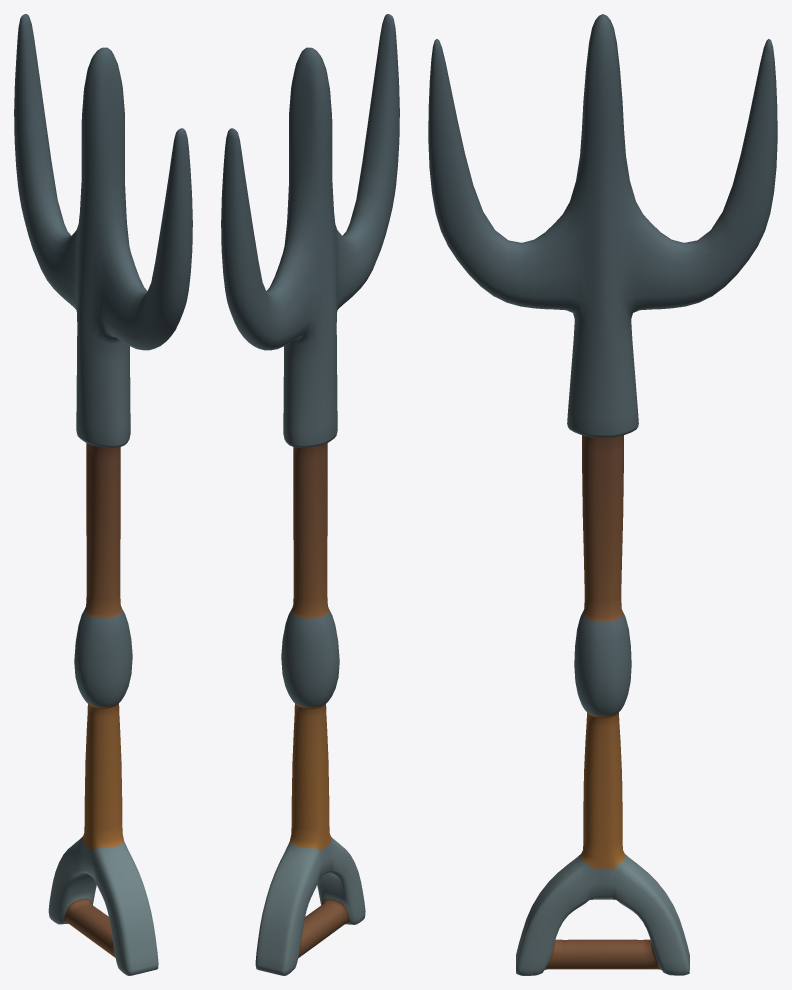
The model's file is pitchfork.fbx.
The picture shows the model from 3 angles, left to right: view 1: azimuth 30°, elevation 25°; view 2: azimuth 150°, elevation 25°; view 3: azimuth 270°, elevation 25°; orthographic projection. The views are drawn at different scales.
Parts seen in each view (by area): view 1: Cube; view 2: Cube; view 3: Cube.
Part boxes in pixels (left/top/right/bottom): Cube: left=14, top=14, right=192, bottom=975; Cube: left=221, top=14, right=399, bottom=975; Cube: left=428, top=14, right=777, bottom=975.
Size of the model in its own units: 4.89 by 81.01 by 26.87.
